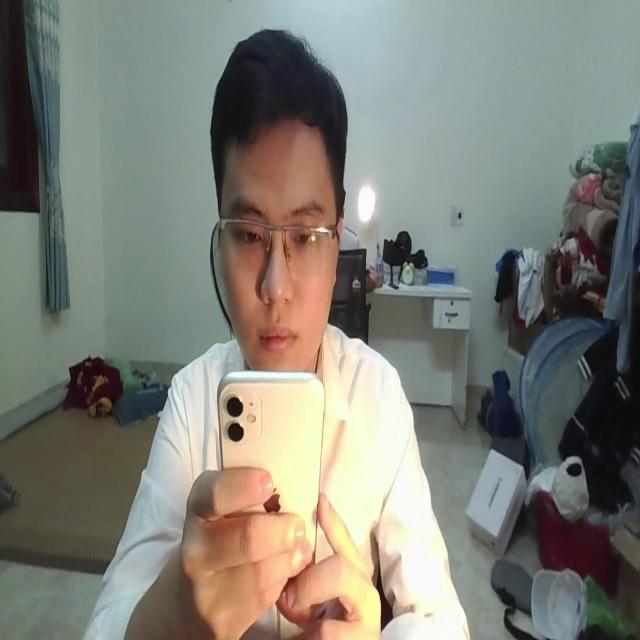phone: (216, 358, 326, 598)
student: (82, 24, 468, 640)
